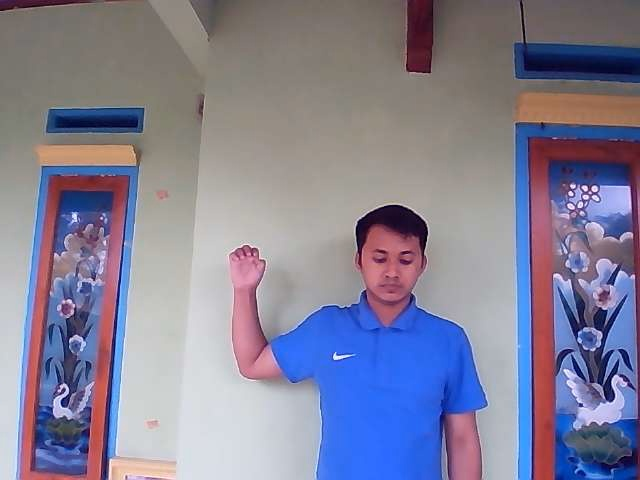E: (228, 244, 267, 291)
